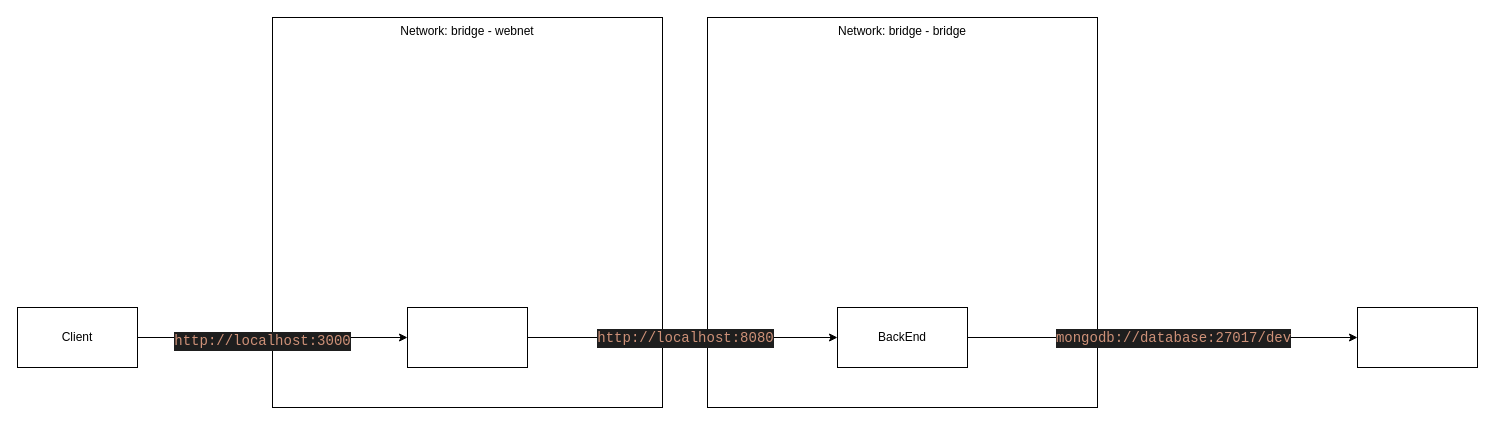
Some shapes in this 1495 by 425 pixel diagram are drawn without their labels. Here are the shapes that lost their labels. From the top down, the centre of each, then its label:
At [467,337]: "FrontEnd".
At [1417,337]: "MongoDB".
